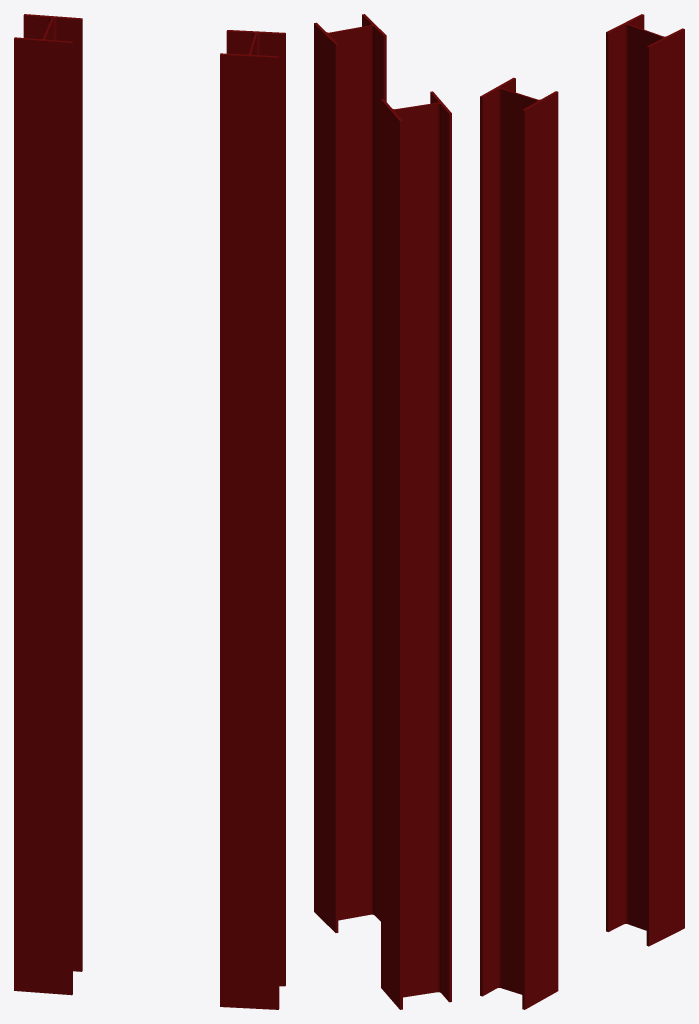
The model's file is 1253_AR_AFP_BASE BUILDING_MASTER_malfredMXUZG_1AdpURx9v8fxrfh$v1S7UQ-LEVEL GROUND (EX STATION ENTRY)_IfcColumn.dae.
3 views of the same model, side by side, from view 1: azimuth 30°, elevation 25°; view 2: azimuth 150°, elevation 25°; view 3: azimuth 270°, elevation 25° (orthographic). The views are drawn at different scales.
Parts seen in each view (by area): view 1: 0tHBR7ZmnBTAkzBRbpy6Yk, 0tHBR7ZmnBTAkzBRbpy6YW; view 2: 0tHBR7ZmnBTAkzBRbpy6Yk, 0tHBR7ZmnBTAkzBRbpy6YW; view 3: 0tHBR7ZmnBTAkzBRbpy6Yk, 0tHBR7ZmnBTAkzBRbpy6YW.
Boxes of the visible parts, x1,y1,x2,y2 form: 0tHBR7ZmnBTAkzBRbpy6Yk: (14,14,82,995); 0tHBR7ZmnBTAkzBRbpy6YW: (220,30,285,1009); 0tHBR7ZmnBTAkzBRbpy6Yk: (381,91,451,1009); 0tHBR7ZmnBTAkzBRbpy6YW: (314,14,386,932); 0tHBR7ZmnBTAkzBRbpy6Yk: (606,14,684,946); 0tHBR7ZmnBTAkzBRbpy6YW: (480,77,558,1009).
Size of the model in its own units: 0.8305 by 0.7432 by 3.6.
